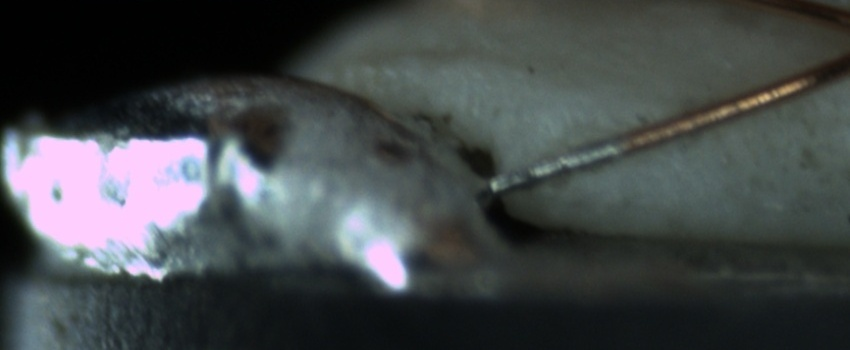TS: (481, 139, 622, 192)
